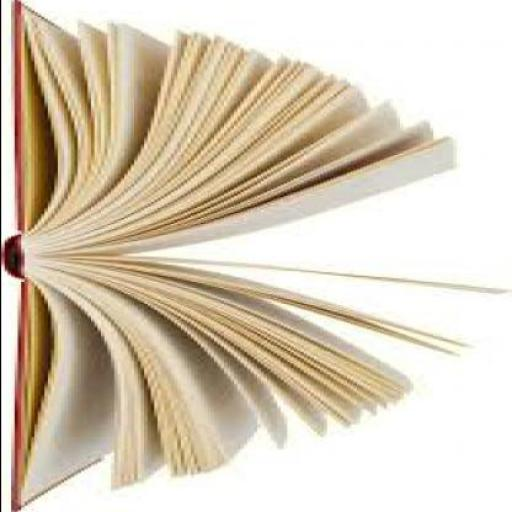paper: (1, 1, 511, 512)
